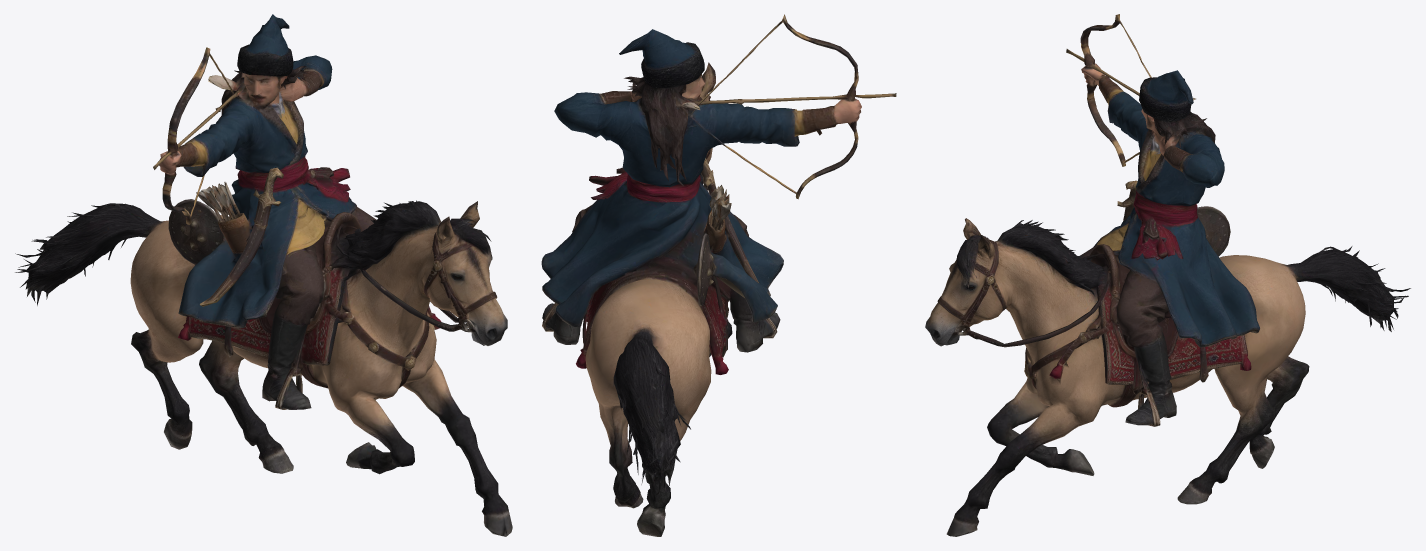
The model's file is kirim-tatari-atli-okcu-1550-1600-tripo-v1.glb.
The picture shows the model from 3 angles, left to right: view 1: azimuth 30°, elevation 25°; view 2: azimuth 150°, elevation 25°; view 3: azimuth 270°, elevation 25°; orthographic projection. The views are drawn at different scales.
Visible parts, largest first — view 1: tripo_node_20edafc9-a59b-4e29-a8b4-03c83cc9d3a3; view 2: tripo_node_20edafc9-a59b-4e29-a8b4-03c83cc9d3a3; view 3: tripo_node_20edafc9-a59b-4e29-a8b4-03c83cc9d3a3.
Part boxes in pixels (<box>): tripo_node_20edafc9-a59b-4e29-a8b4-03c83cc9d3a3: <box>15,14,512,536</box>; tripo_node_20edafc9-a59b-4e29-a8b4-03c83cc9d3a3: <box>541,14,896,536</box>; tripo_node_20edafc9-a59b-4e29-a8b4-03c83cc9d3a3: <box>925,14,1410,536</box>.
Bounding box in the file's own units: 0.6691 × 0.9876 × 1.
1 material, 1 textured.
